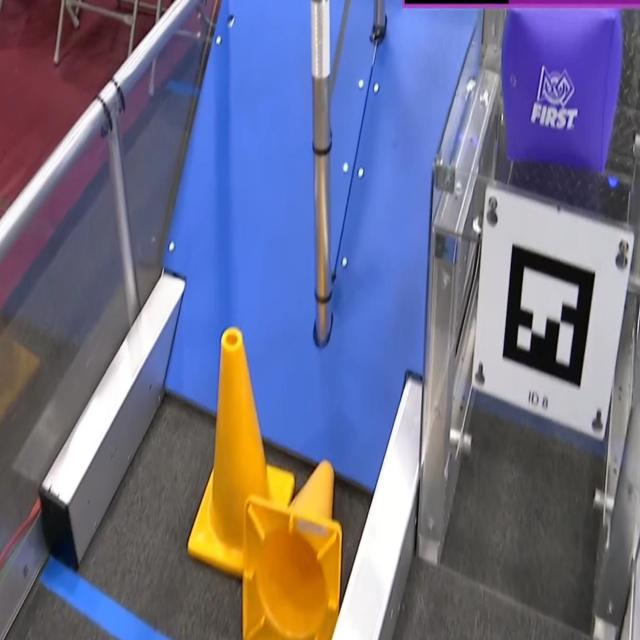frc_cone: (188, 322, 293, 580), (240, 460, 344, 640)
frc_cube: (502, 1, 621, 180)
